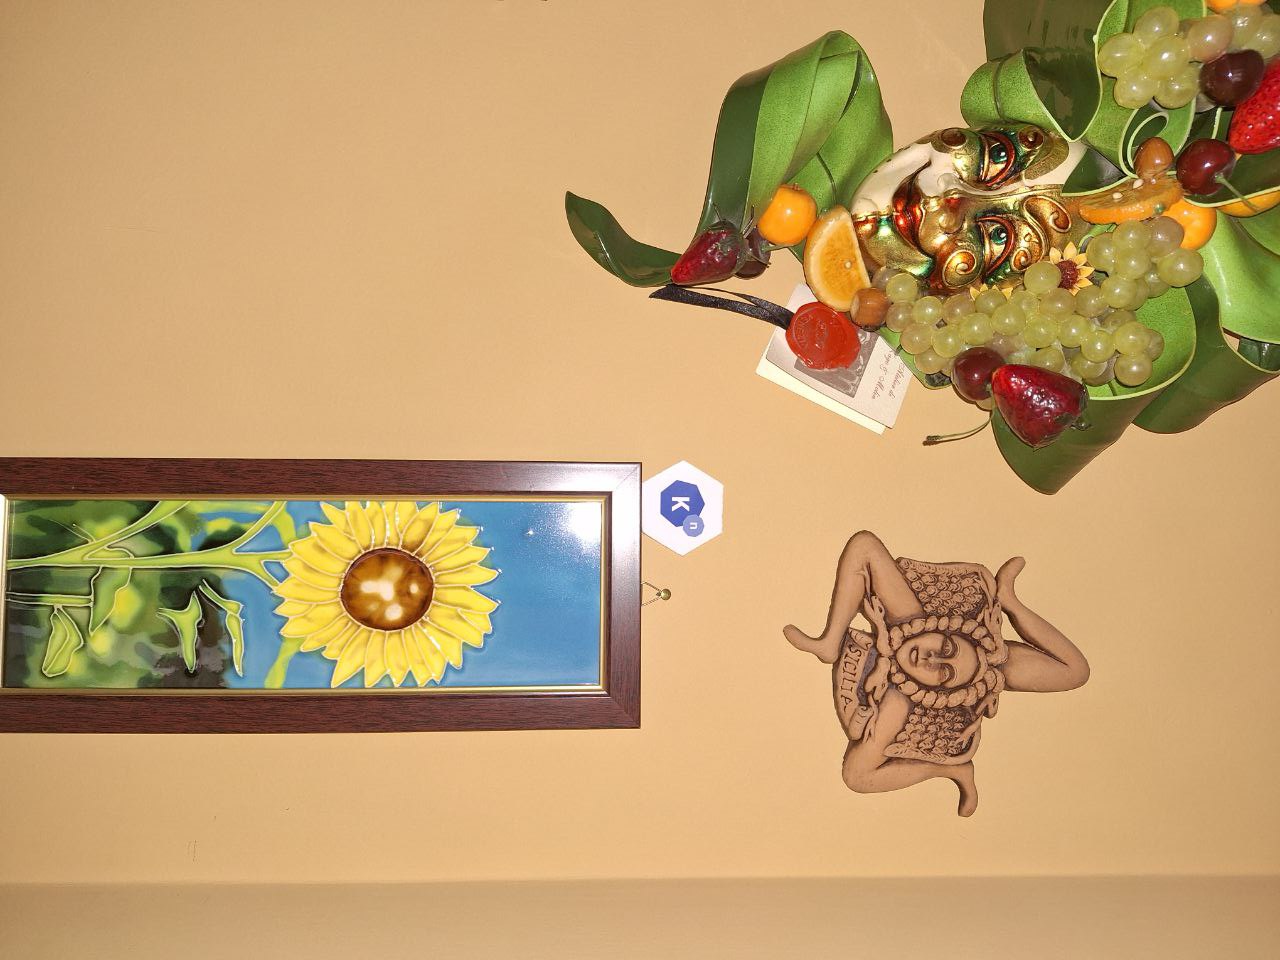knative: (659, 481, 707, 534)
